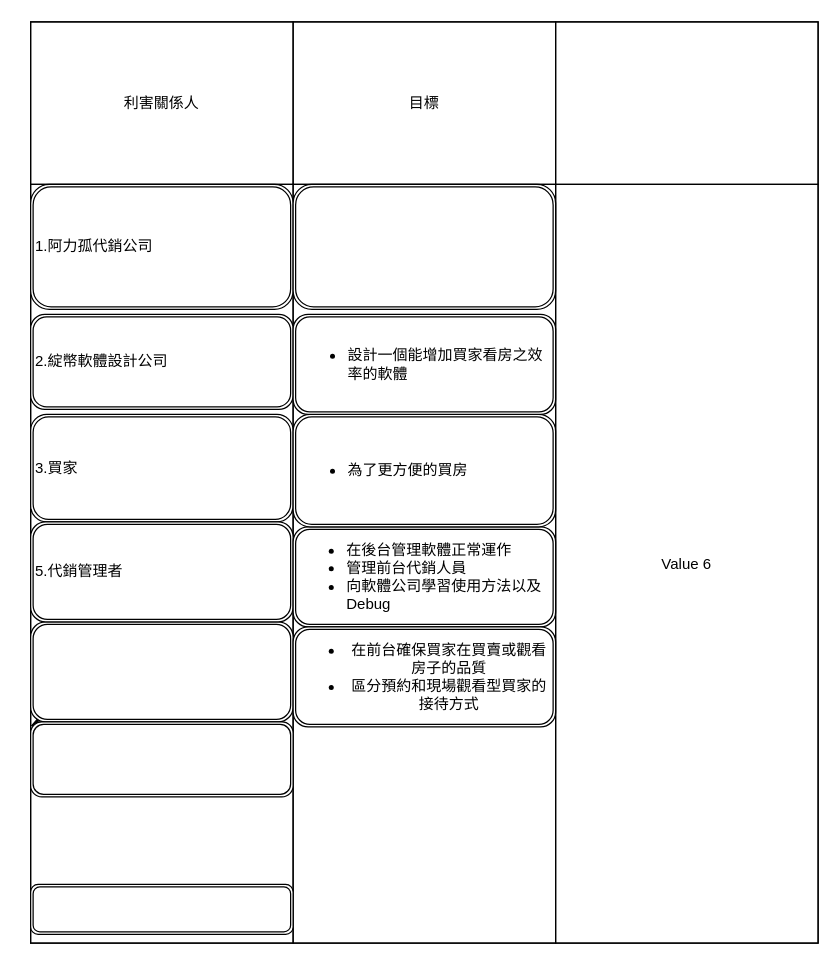
The diagram is 840 pixels wide and 965 high, and some of its shapes have lost their labels. Each missing label, with the centre of its shape:
"6.代銷人員" belongs at point (161, 671).
"7.Line bot" belongs at point (161, 759).
"8.開發建商" belongs at point (161, 908).
"確保代銷人員能夠有計畫的接待看房" belongs at point (424, 246).
